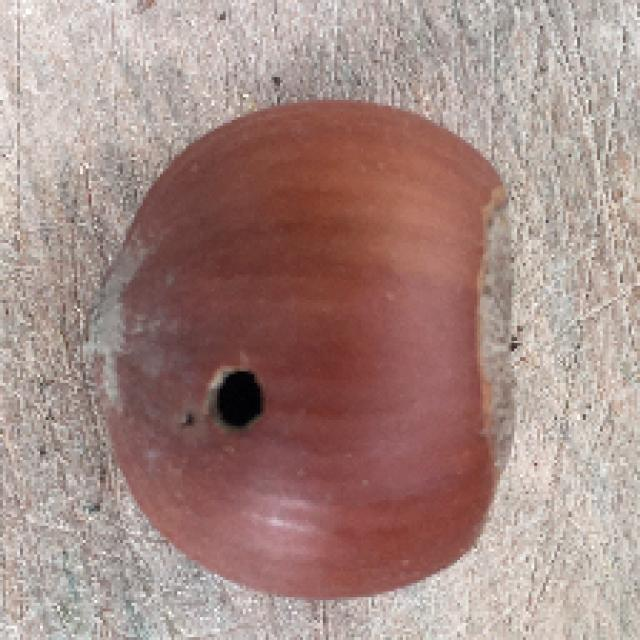damagedHazelnut: (96, 93, 522, 591)
